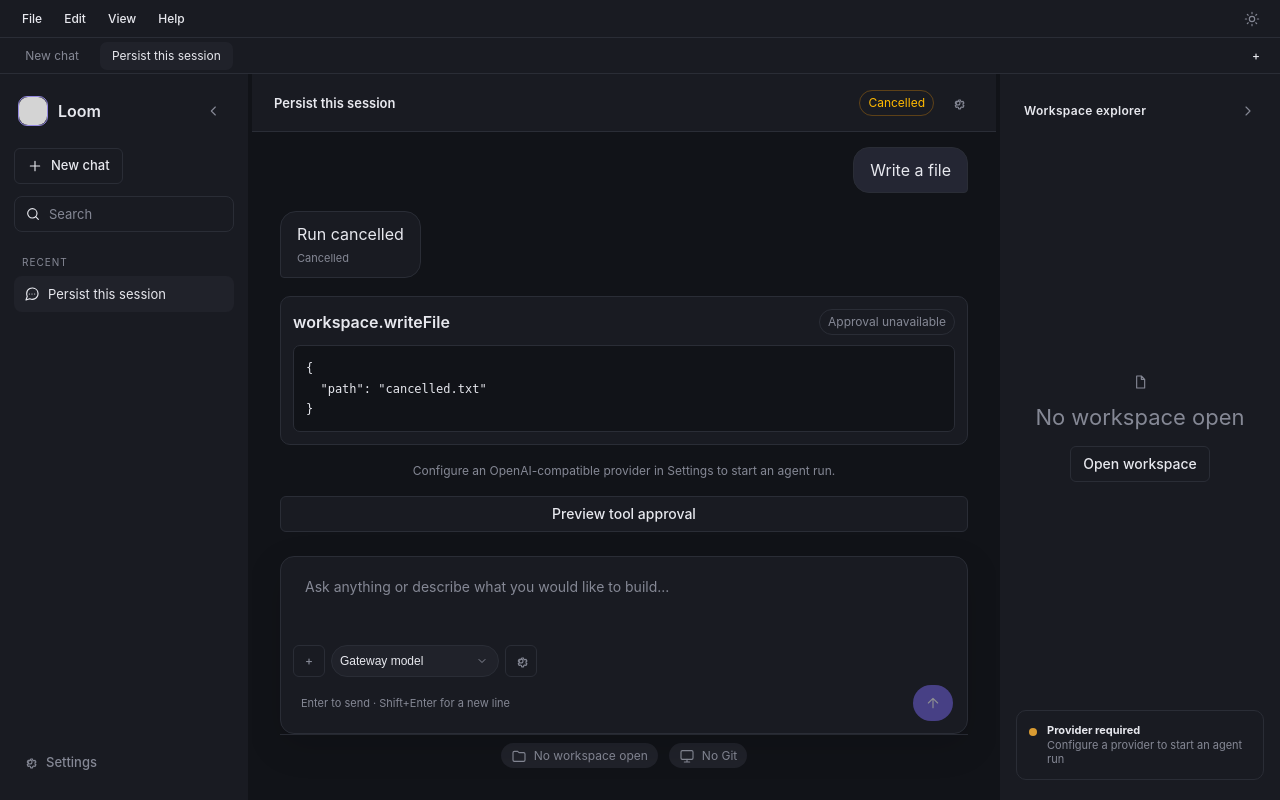
Test: MainUI testing › switches between dark and light themes
The image size is (1280, 800).
(page scrolled)
Click the button named "Switch to light mode": (1252, 18) [1236, 2, 1268, 34]
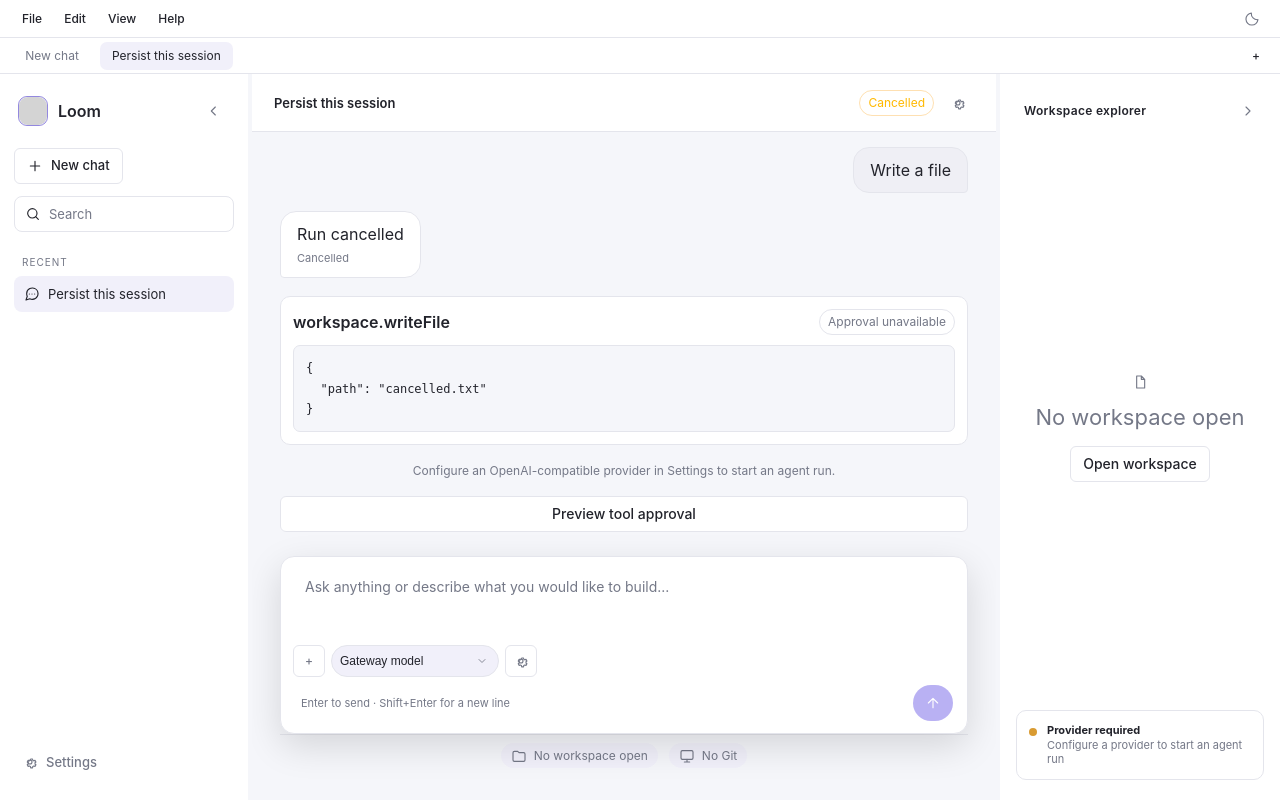
Check: the button named "Switch to dark mode" is shown, box [1236, 2, 1268, 34]
